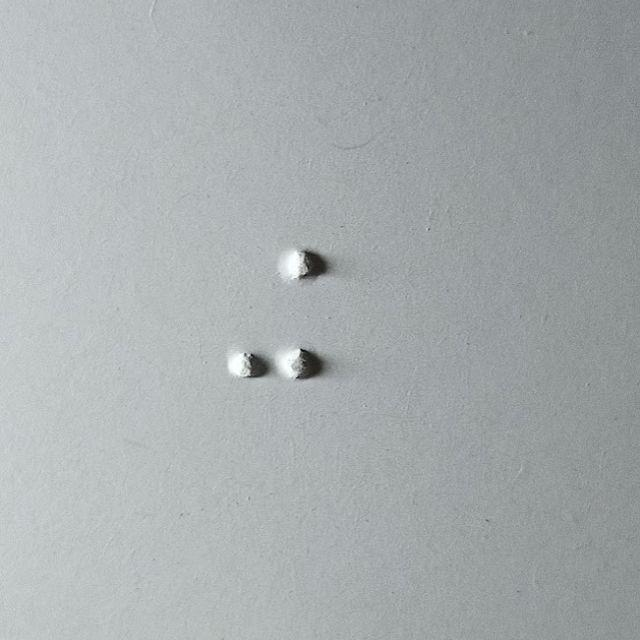ing: (226, 250, 329, 378)
